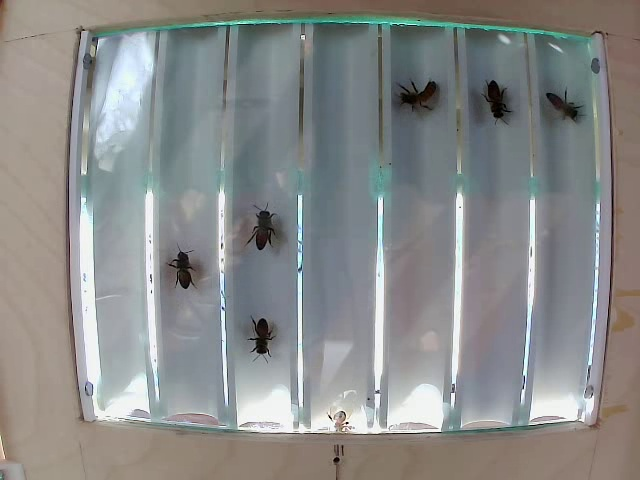bee: (398, 70, 451, 126), (472, 74, 512, 129), (539, 86, 587, 129), (167, 249, 206, 299), (247, 311, 277, 357), (243, 212, 282, 246)
